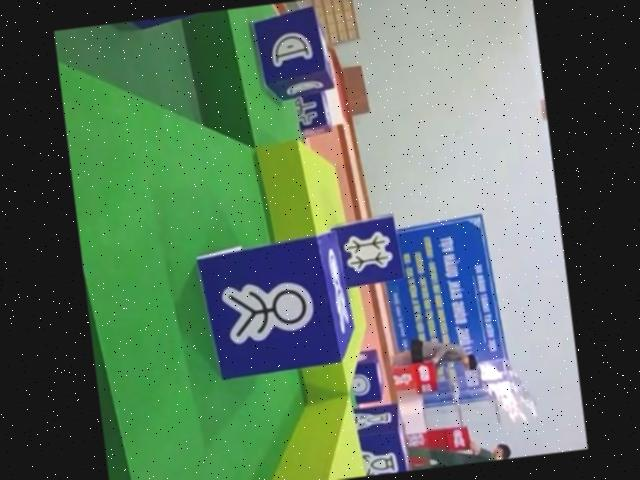R2 Real Blue: (192, 229, 358, 379), (245, 3, 333, 103), (326, 216, 403, 291), (352, 401, 408, 477), (348, 348, 386, 404), (292, 90, 331, 140)
